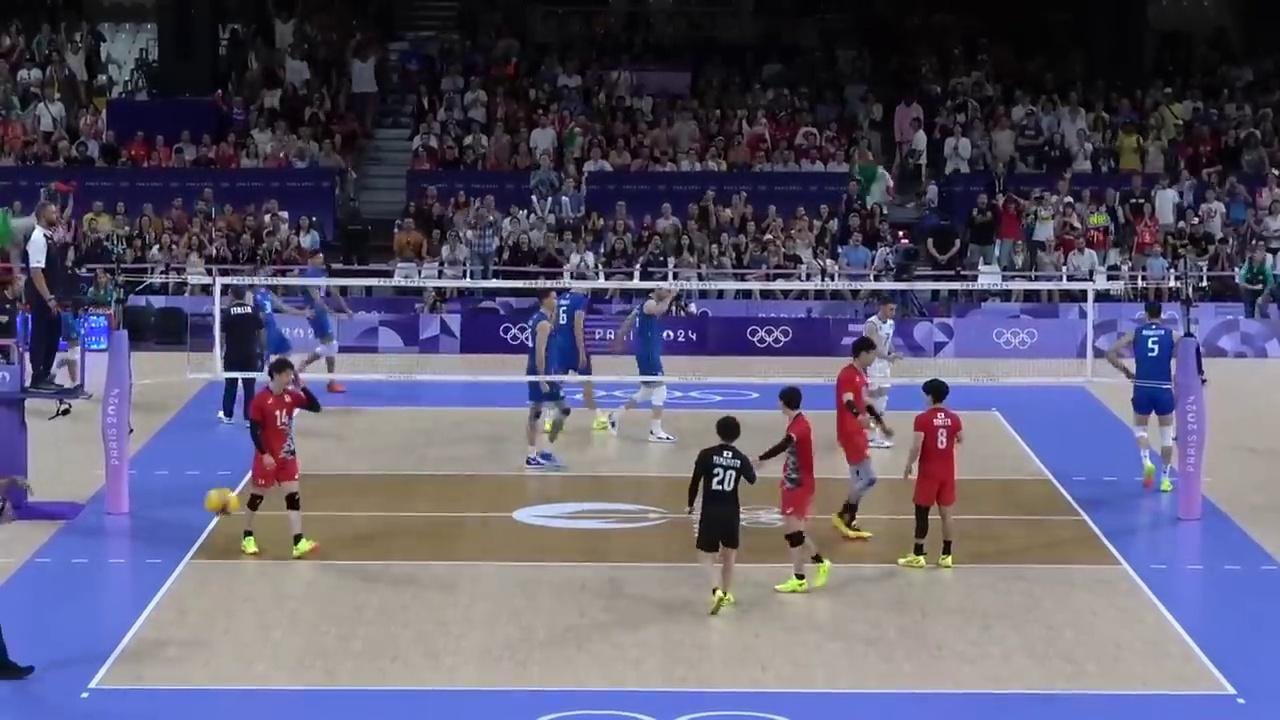ball: (208, 487, 235, 517)
